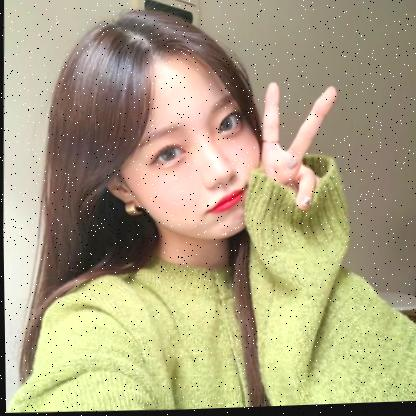person: (64, 5, 276, 241)
